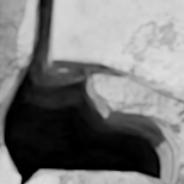brick: (51, 0, 183, 100), (29, 172, 166, 183)
crack: (0, 0, 183, 183)
